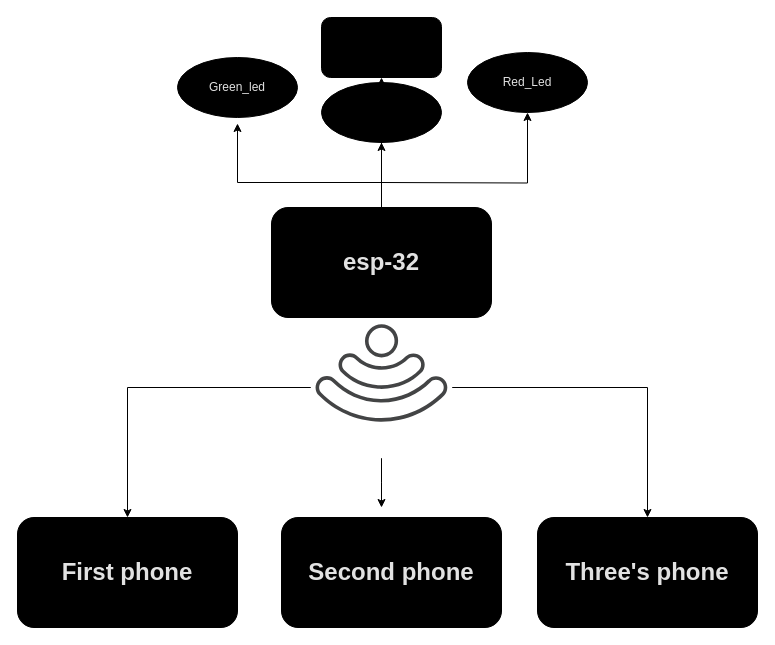
Some shapes in this 775 by 645 pixel diagram are drawn without their labels. The shapes that lost their labels are listed below. From the top down, each one's box as (x1, y1, x2, y2) in pixels, then its label:
(320, 16, 442, 78): LiquidCrystal_I2C
(320, 82, 442, 142): Blue led
